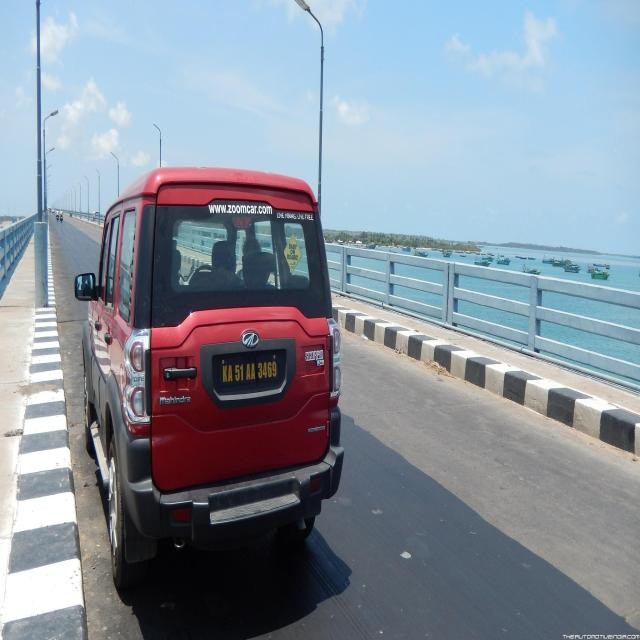number_plate: (209, 351, 288, 392)
